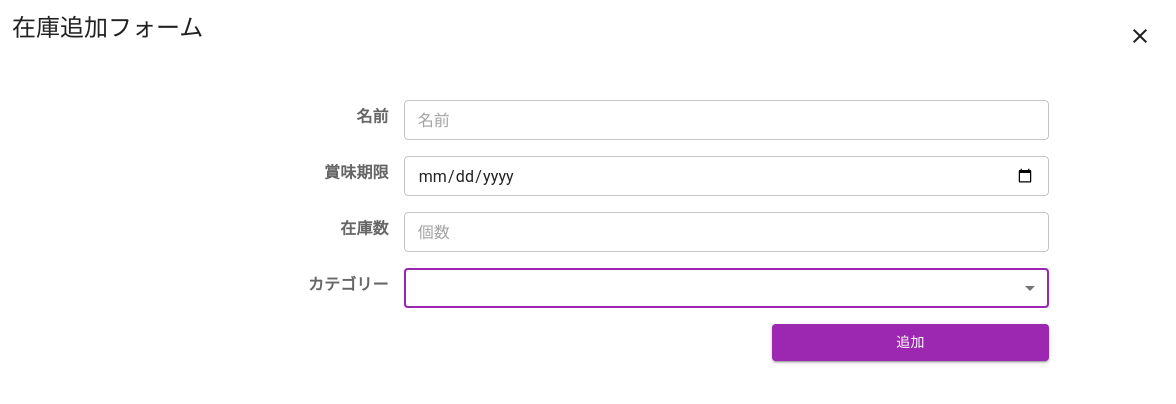
Test: 在庫追加フォーム › 個数入力欄にマイナスの数字を入力したらバリデーションエラーが表示される
Type "-1" into the number field with placeholder "個数" at (726, 232), box [404, 212, 1049, 252]
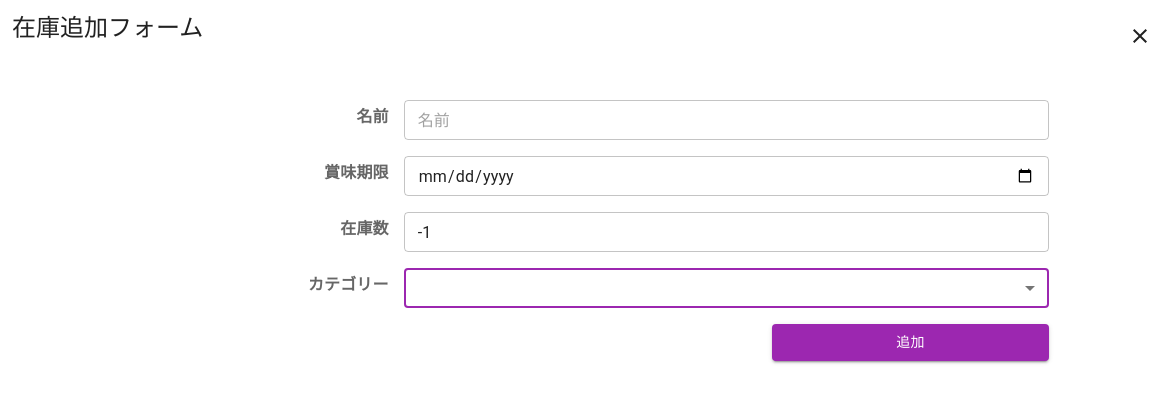
Leave the number field with placeholder "個数", box [404, 212, 1049, 252]
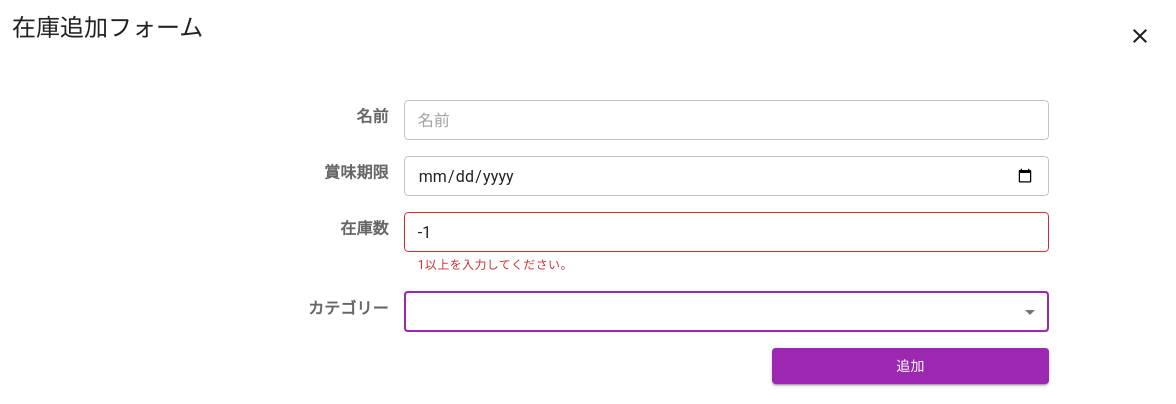
Result: the text "1以上を入力してください。" is shown at [418, 258, 573, 272]
